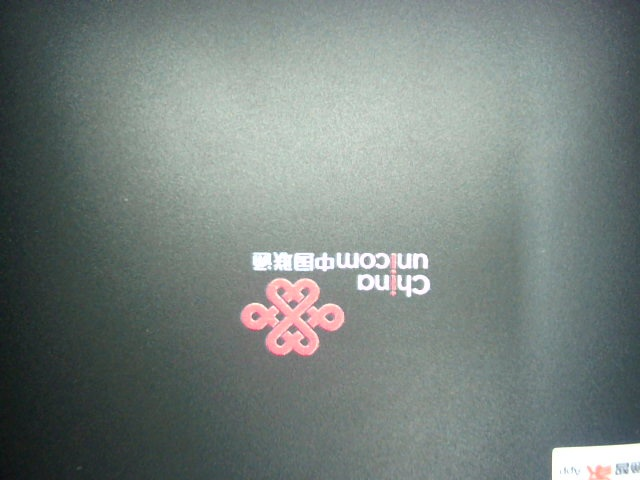AC_ChinaUnicom: (231, 243, 434, 357)
